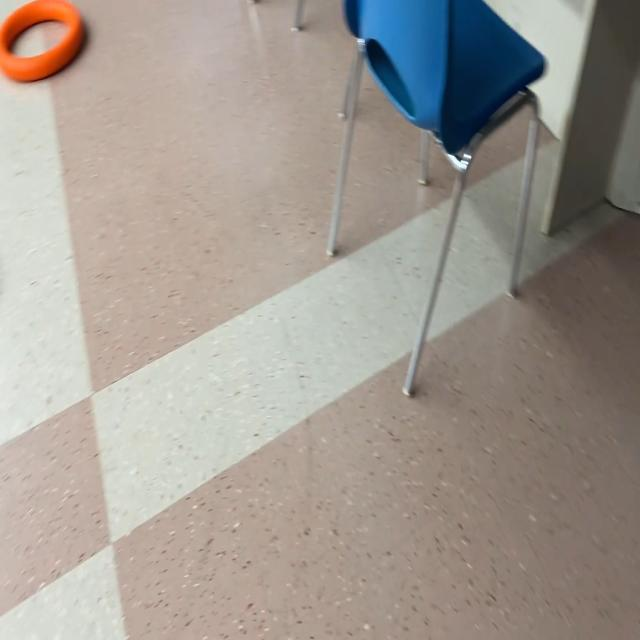note: (0, 0, 86, 86)
